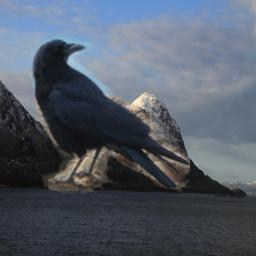Crow: (30, 32, 190, 195)
